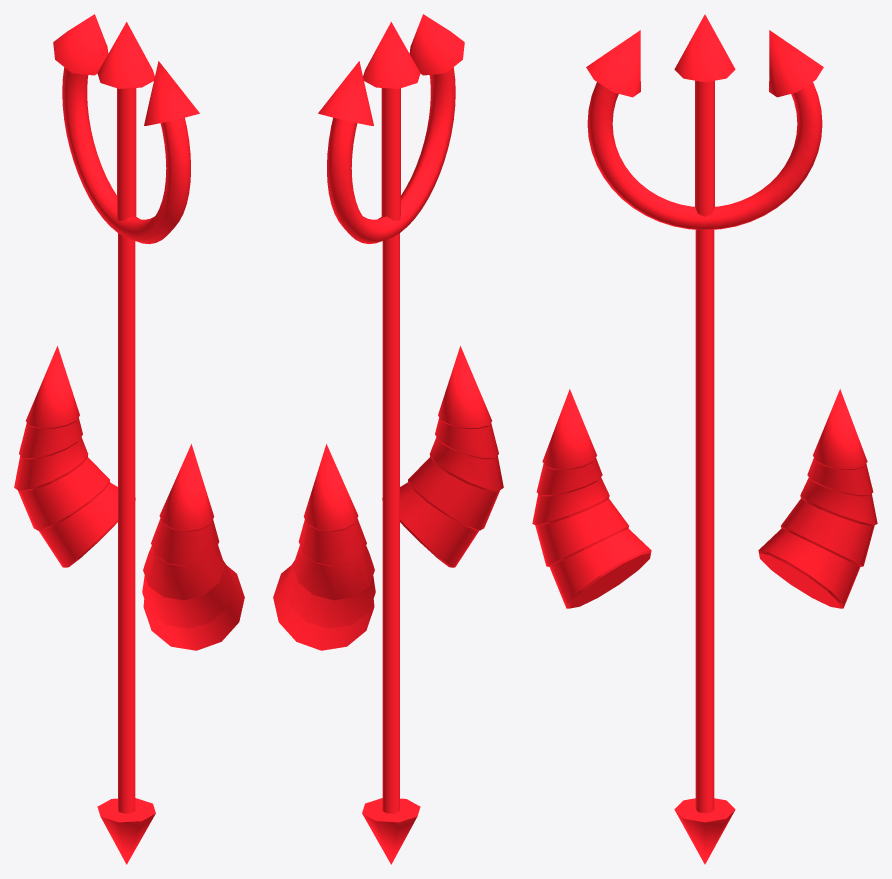
The model's file is PitchforkAndHorns.fbx.
3 renders of one model, left to right at view 1: azimuth 30°, elevation 25°; view 2: azimuth 150°, elevation 25°; view 3: azimuth 270°, elevation 25°, orthographic.
Visible parts, largest first — view 1: Pitchfork, Horn; view 2: Pitchfork, Horn; view 3: Pitchfork, Horn.
Part boxes in pixels (left/top/right/bottom): Pitchfork: left=53, top=14, right=199, bottom=864; Horn: left=14, top=346, right=244, bottom=650; Pitchfork: left=318, top=14, right=464, bottom=864; Horn: left=273, top=346, right=503, bottom=650; Pitchfork: left=586, top=14, right=823, bottom=864; Horn: left=532, top=389, right=877, bottom=608.
Bounding box in the file's own units: 7.27 × 57.9 × 21.3.
